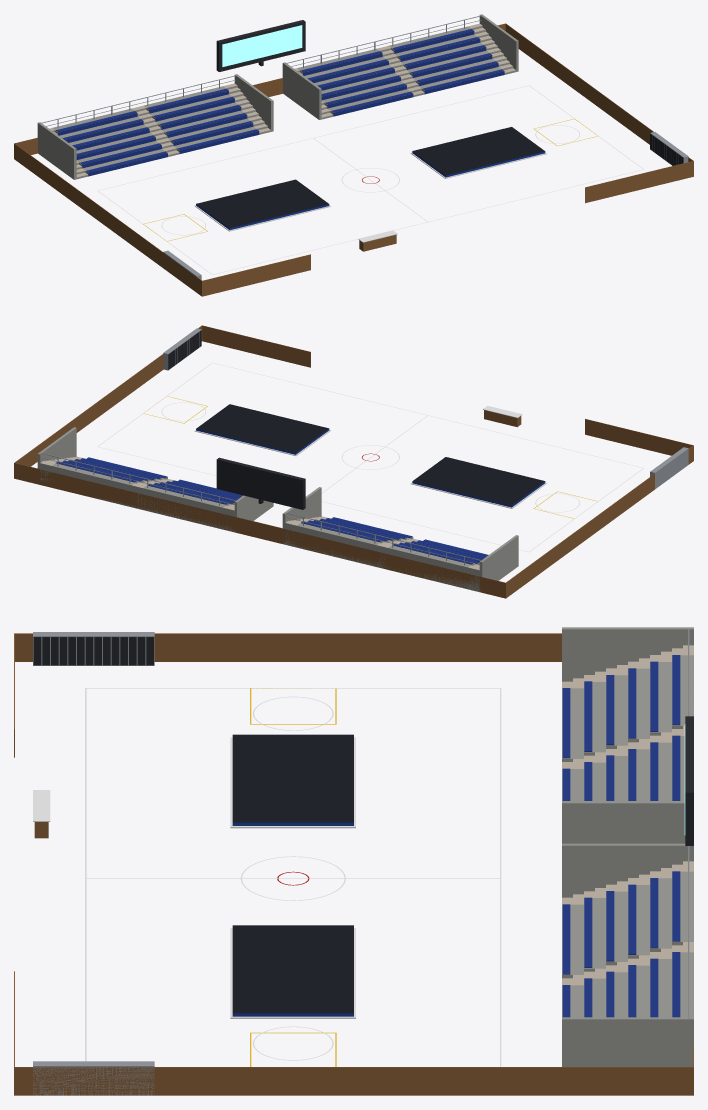
Rendered from SM_Gym_Interior.fbx.
3 renders of one model, top to bottom at view 1: azimuth 30°, elevation 25°; view 2: azimuth 150°, elevation 25°; view 3: azimuth 270°, elevation 25°, orthographic. The views are drawn at different scales.
Visible parts, largest first — view 1: SM_Gym_Interior; view 2: SM_Gym_Interior; view 3: SM_Gym_Interior.
Part boxes in pixels (x1,y1,x2,y2): SM_Gym_Interior: [14, 14, 693, 296]; SM_Gym_Interior: [14, 325, 693, 598]; SM_Gym_Interior: [14, 627, 693, 1095].
Size of the model in its own units: 59.2 by 7.9 by 39.2.
